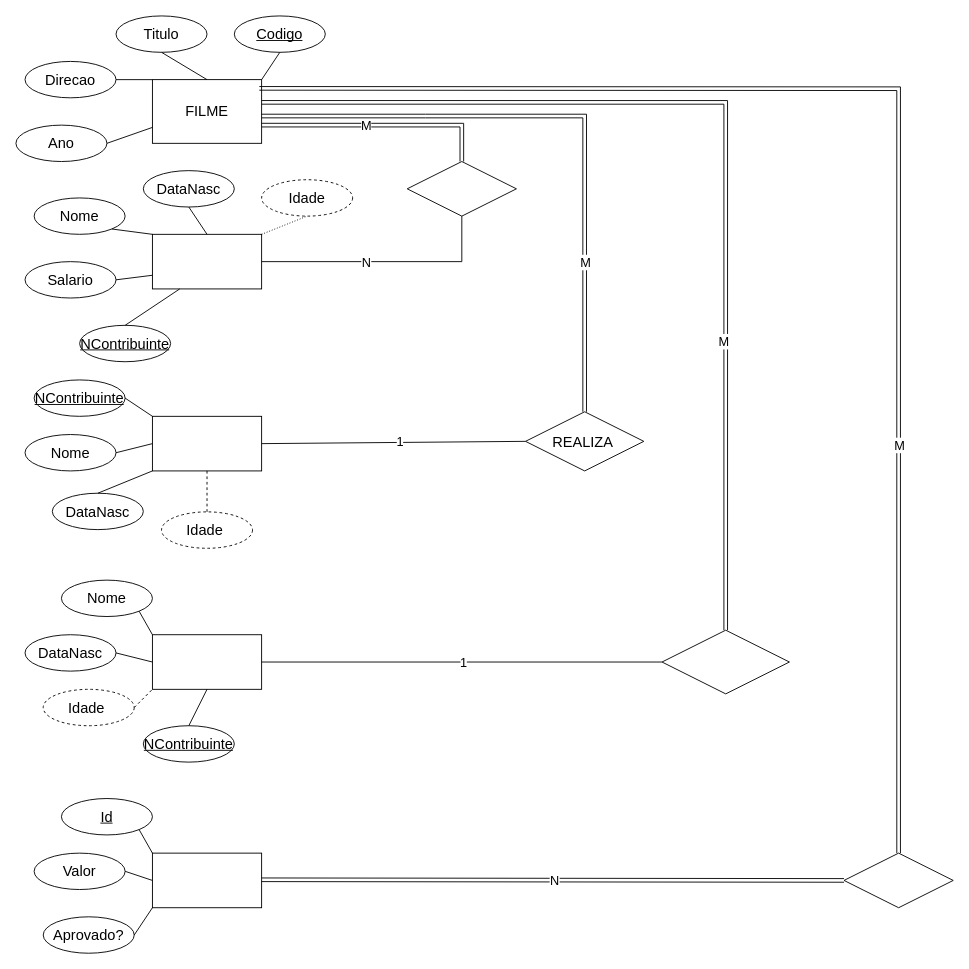
Image size: 969x969. Some labels were removed from this diagram. The centre of each missing label's shape, as x and y in pixels:
"ATOR" belongs at [207,261].
"ENTRA_EM" belongs at [461,188].
"ORCAMENTO" belongs at [207,880].
"POSSUEM" belongs at [898,880].
"PRODUTOR" belongs at [207,661].
"PRODUTOR_DE" belongs at [725,661].
"REALIZADOR" belongs at [207,443].
